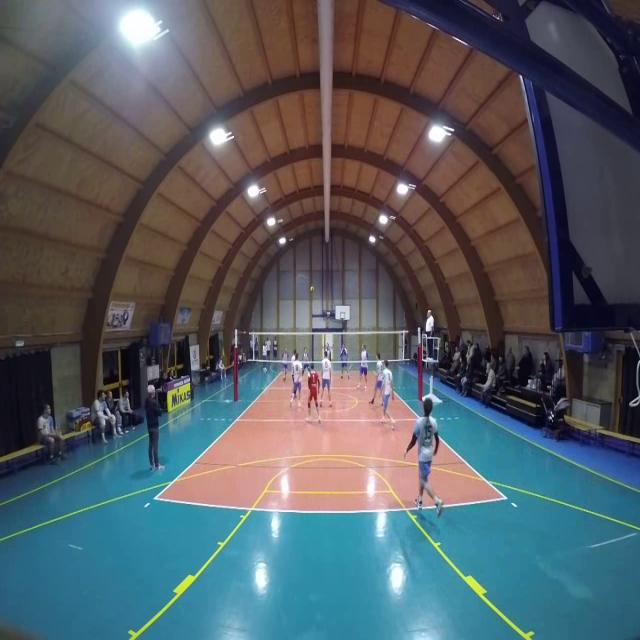Volleyball: (309, 284, 315, 294)
